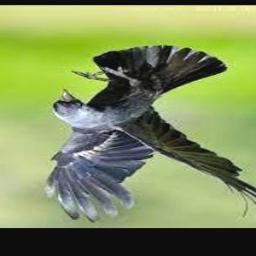Crow: (46, 46, 256, 223)
